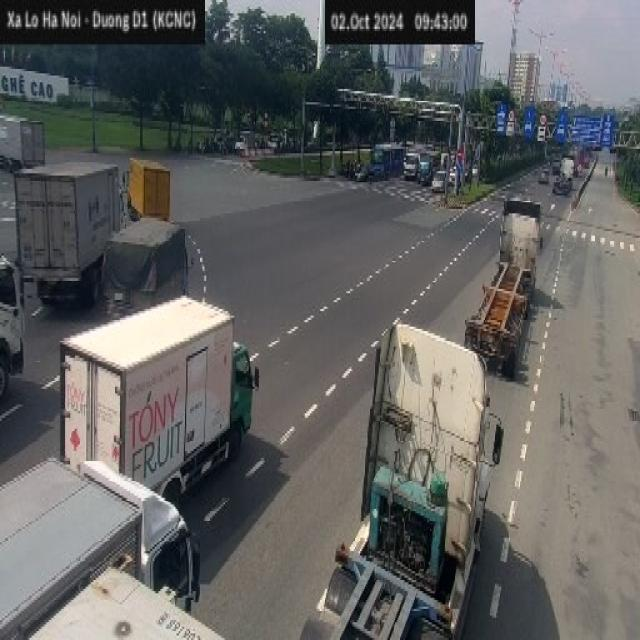container-truck: (298, 316, 504, 638), (459, 189, 544, 380)
truck: (59, 294, 259, 504), (0, 454, 201, 623), (19, 563, 232, 640), (12, 160, 122, 307)
